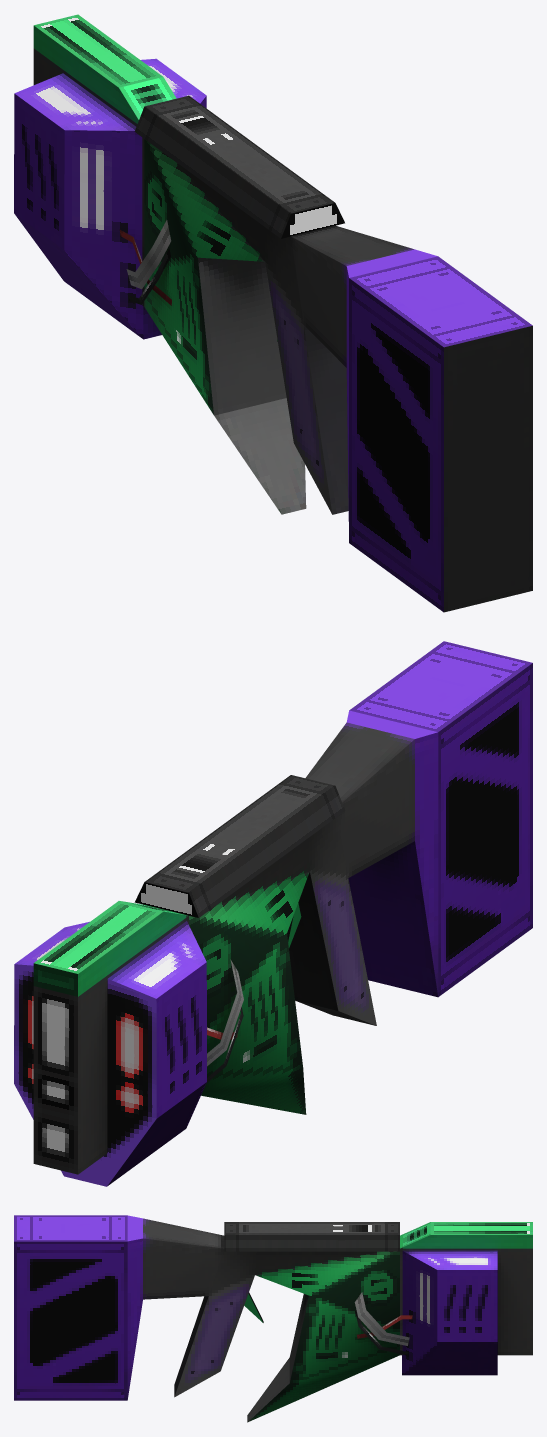
3 views of the same model, one above another, from view 1: azimuth 30°, elevation 25°; view 2: azimuth 150°, elevation 25°; view 3: azimuth 270°, elevation 25° (orthographic). The views are drawn at different scales.
Visible parts, largest first — view 1: smg.001; view 2: smg.001; view 3: smg.001.
Boxes of the visible parts, box(x1,y1,x2,y2) form: smg.001: box(14, 14, 532, 612); smg.001: box(14, 641, 532, 1186); smg.001: box(14, 1215, 532, 1422).
Size of the model in its own units: 0.1744 by 0.3705 by 0.9148.
Materials: 1 (1 with a texture image).
